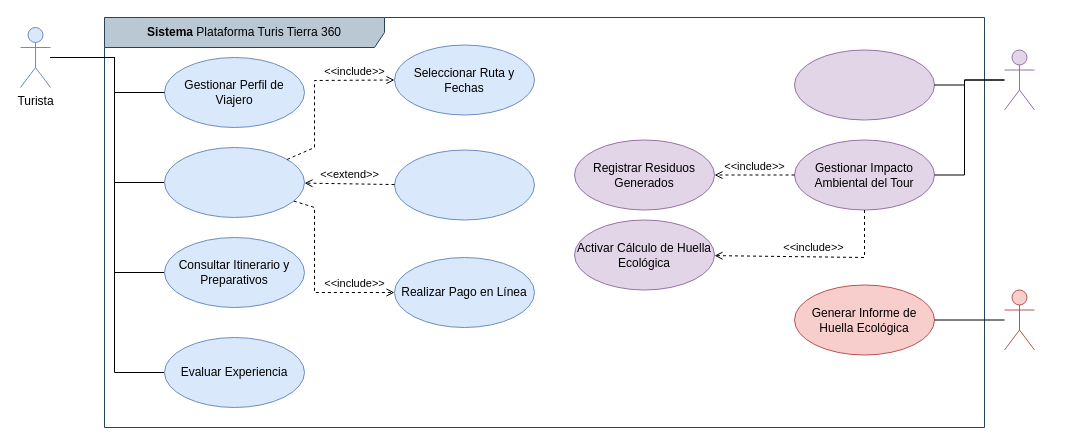
Some shapes in this 1067 by 445 pixel diagram are drawn without their labels. Each missing label, with the box of its shape:
Cancelar Proceso en Línea: (394, 149, 534, 220)
Confirmar Datos del Tour: (794, 49, 934, 120)
Gerente: (1004, 289, 1034, 350)
Guía Local Certificado: (1004, 49, 1034, 110)
Reservar Experiencia Ecoturística: (164, 146, 304, 218)
